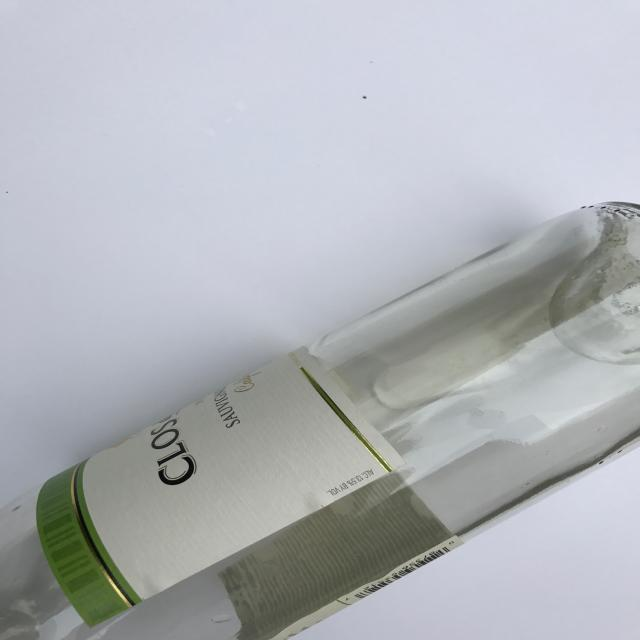glass: (1, 199, 640, 639)
